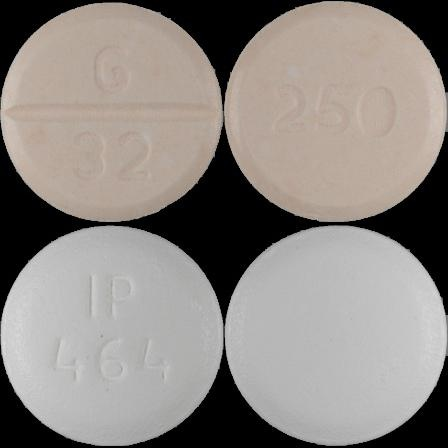63874-301: (0, 0, 224, 224)
